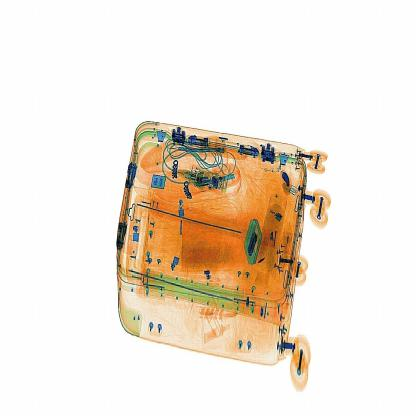wrench: (277, 168, 297, 199)
